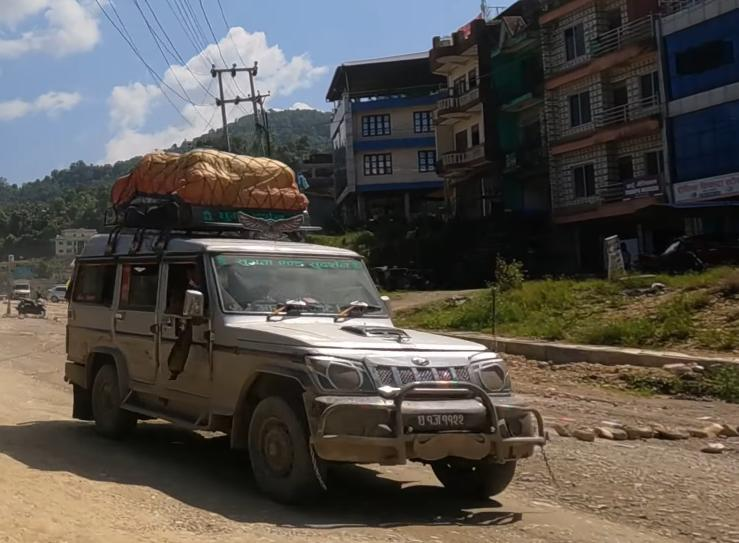SUV: (48, 149, 547, 508)
